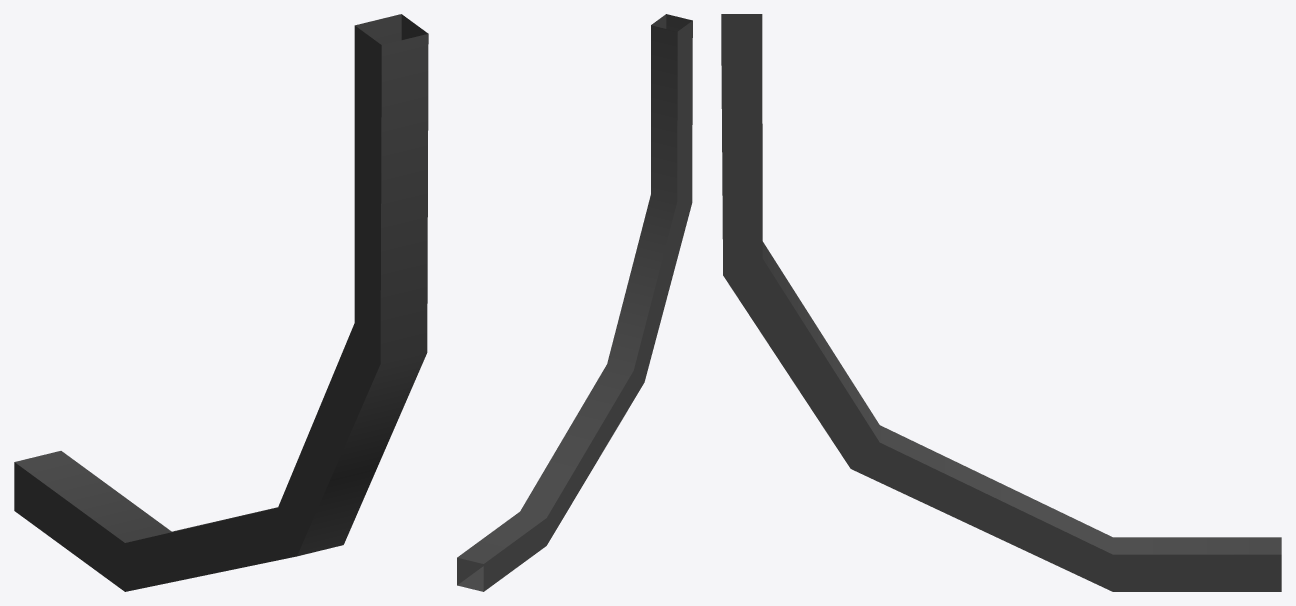
The model's file is Itr_Lamp_Neck_03.FBX.
3 renders of one model, left to right at view 1: azimuth 30°, elevation 25°; view 2: azimuth 150°, elevation 25°; view 3: azimuth 270°, elevation 25°, orthographic. The views are drawn at different scales.
Visible parts, largest first — view 1: Itr_Lamp_Neck_03; view 2: Itr_Lamp_Neck_03; view 3: Itr_Lamp_Neck_03.
Boxes of the visible parts, bbox=[...] form: Itr_Lamp_Neck_03: bbox=[14, 14, 428, 591]; Itr_Lamp_Neck_03: bbox=[457, 14, 692, 591]; Itr_Lamp_Neck_03: bbox=[721, 14, 1281, 591].
Bounding box in the file's own units: 0.6459 × 9.7 × 8.79.
